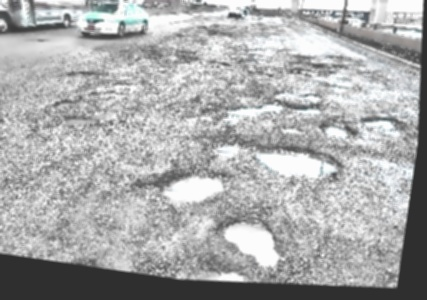pothole: (247, 131, 348, 191), (215, 210, 289, 274), (153, 160, 235, 215), (225, 93, 288, 124), (358, 110, 401, 135), (319, 116, 359, 142), (58, 250, 111, 269), (59, 109, 101, 130), (288, 100, 325, 120), (302, 90, 324, 104), (0, 109, 5, 139)
